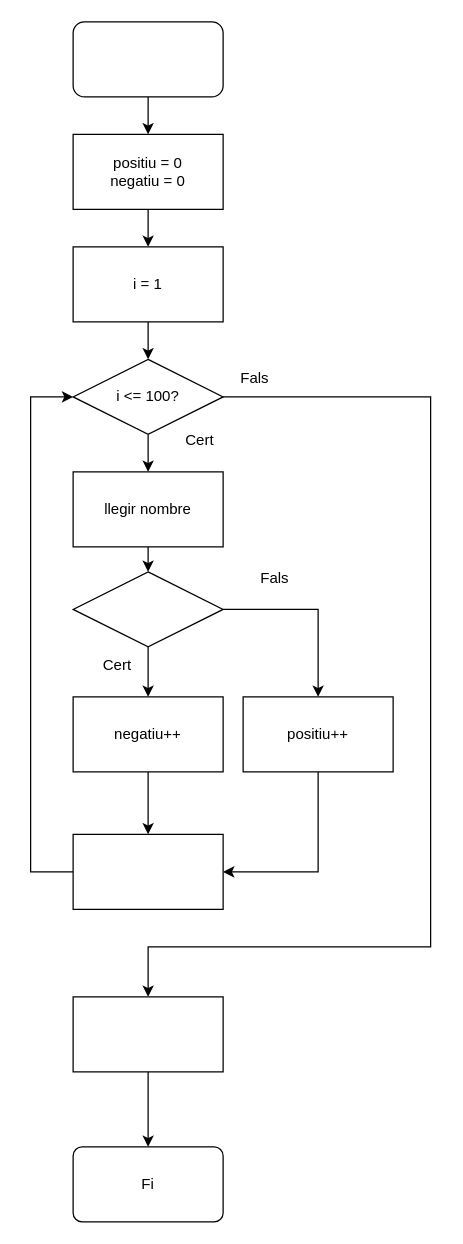
The diagram is 463 pixels wide and 1244 high, and some of its shapes have lost their labels. The centre of each missing label's shape, as x and y in pixels:
i++: [147,871]
Inici: [147,59]
Mostrar positiu i negatiu: [147,1034]
nombre < 0?: [147,609]
